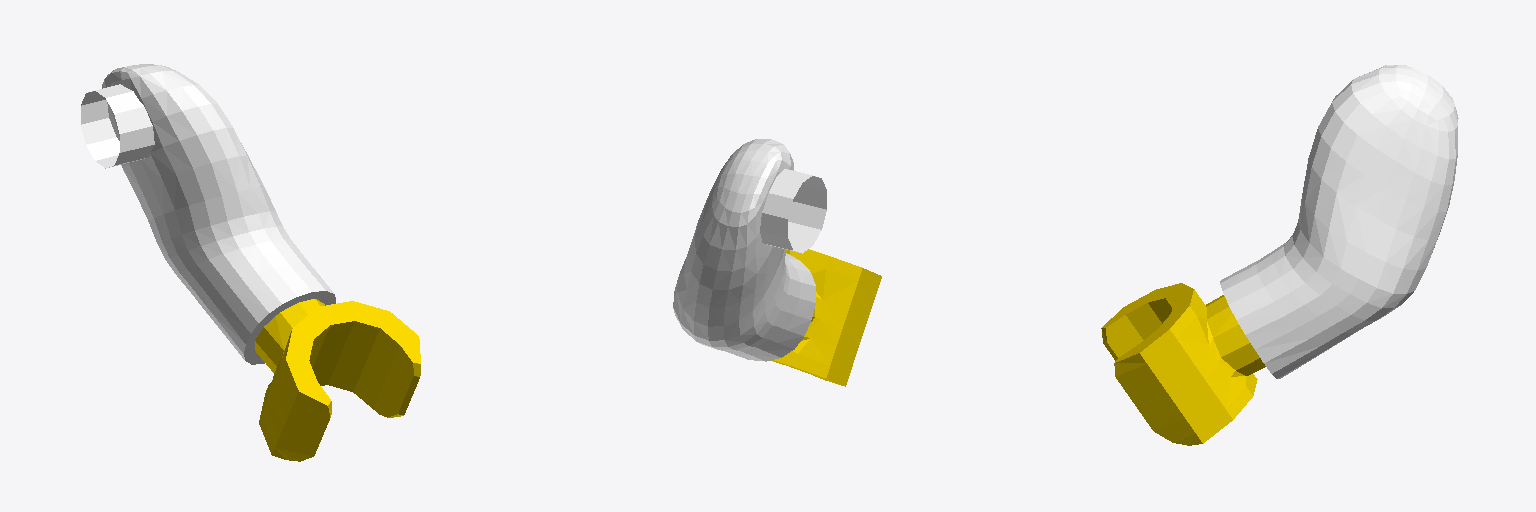
3 views of the same model, side by side, from view 1: azimuth 30°, elevation 25°; view 2: azimuth 150°, elevation 25°; view 3: azimuth 270°, elevation 25° (orthographic).
Visible parts, largest first — view 1: Hand_L__low_poly_; view 2: Hand_L__low_poly_; view 3: Hand_L__low_poly_.
Boxes of the visible parts, <box> form: Hand_L__low_poly_: <box>81,64,420,461</box>; Hand_L__low_poly_: <box>673,139,881,386</box>; Hand_L__low_poly_: <box>1101,65,1458,445</box>.
Bounding box in the file's own units: 2.79 × 4.37 × 4.42.
Materials: 1 (1 with a texture image).